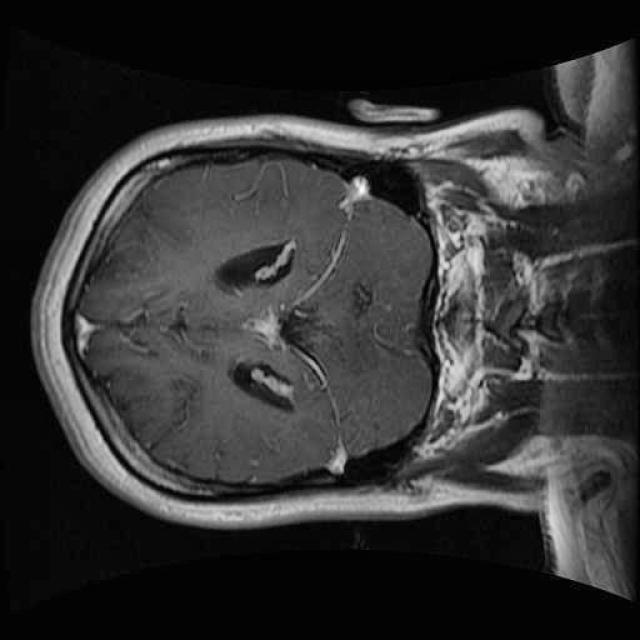Non-Tumor: (169, 275, 284, 380)
